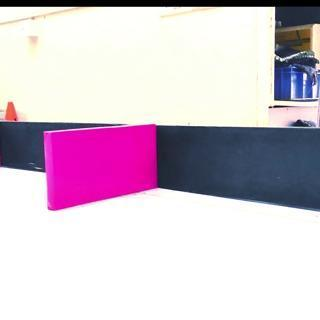xparking: (43, 133, 156, 195)
